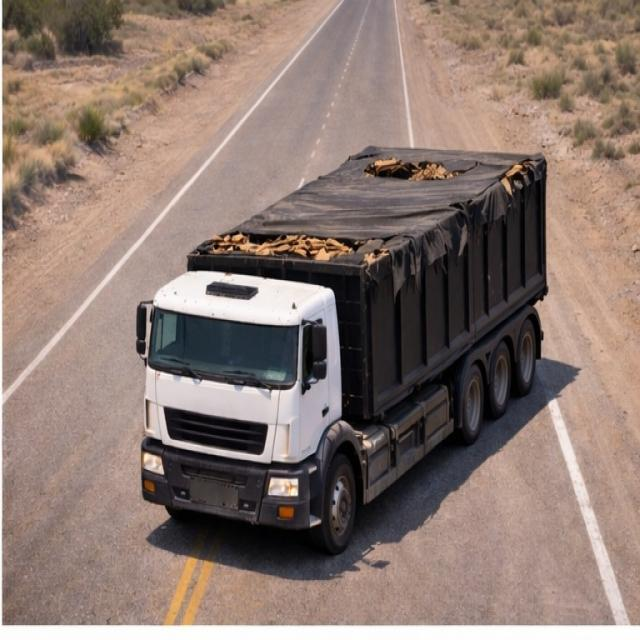Box: (193, 141, 572, 275)
Truck: (124, 99, 602, 545)
